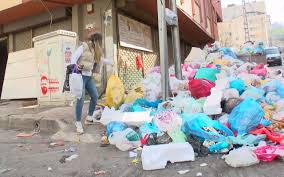Container: (240, 52, 268, 63)
Garbage: (175, 80, 282, 173), (176, 101, 234, 152), (103, 121, 160, 161), (232, 96, 268, 132), (220, 141, 254, 171), (190, 73, 214, 105), (247, 141, 280, 164), (109, 74, 129, 106), (249, 63, 269, 85), (202, 54, 220, 77), (244, 42, 263, 52)
